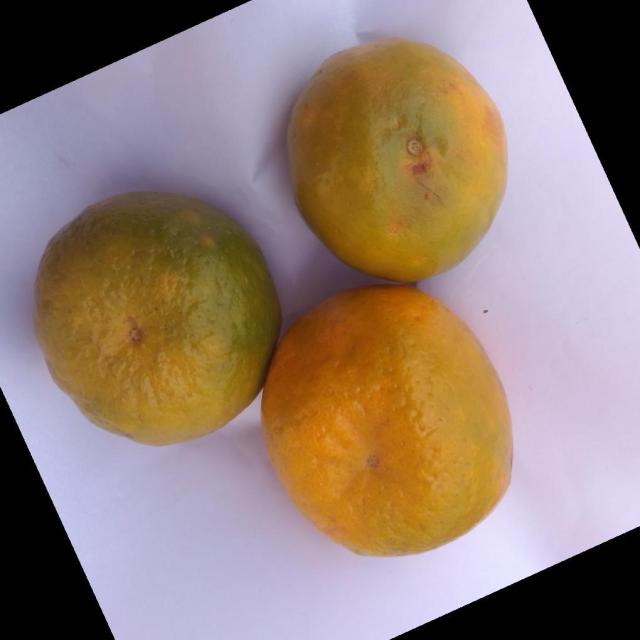fresh orange: (259, 283, 513, 557), (32, 189, 282, 446), (285, 35, 508, 284)
